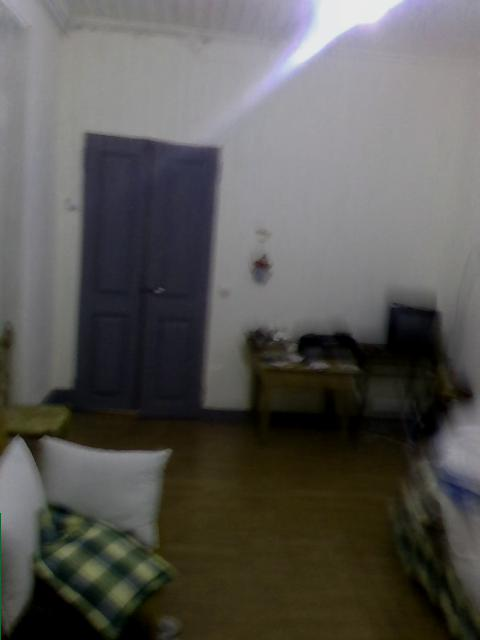closed_door: (71, 132, 220, 413)
